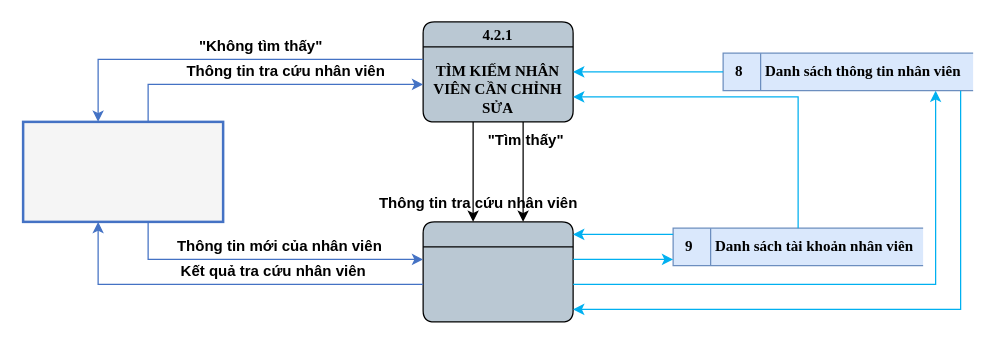
Some shapes in this 995 by 344 pixel diagram are drawn without their labels. Each missing label, with the centre of its shape:
"4.2.2 CẬP NHẬT THÔNG TIN NHÂN VIÊN" belongs at pixel 497 271.
"NHÂN VIÊN QUẢN LÝ" belongs at pixel 122 171.
